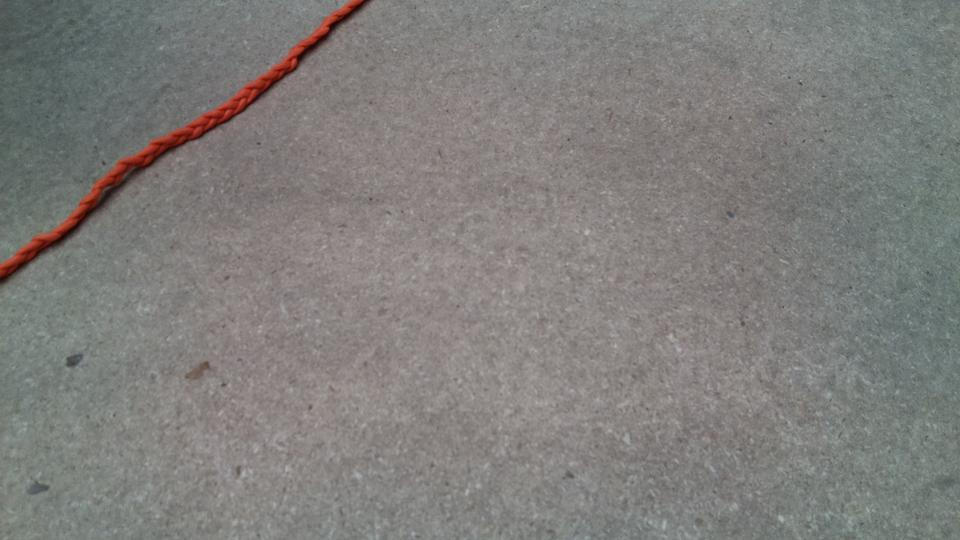rope: (1, 1, 350, 273)
